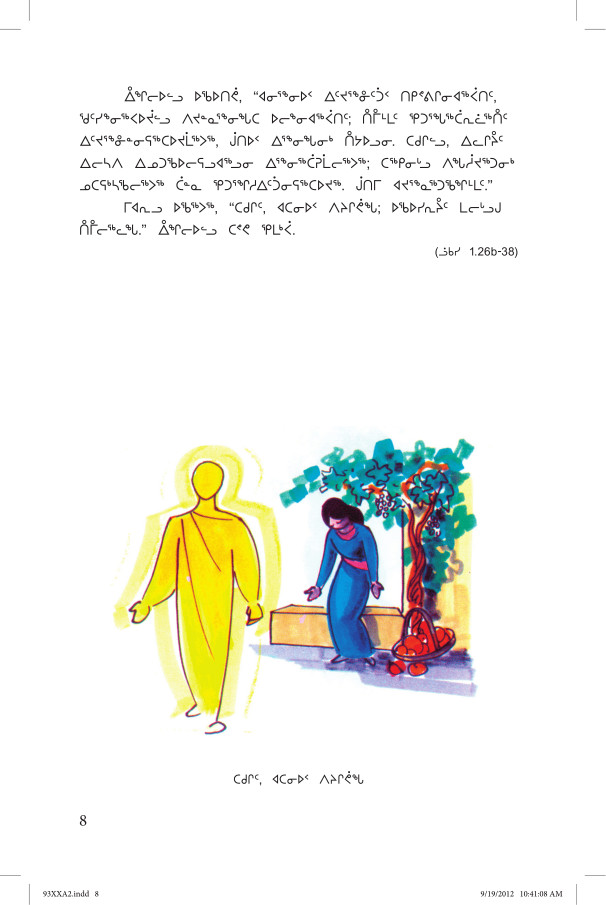inuktitut: (68, 80, 524, 239), (224, 765, 369, 791)
